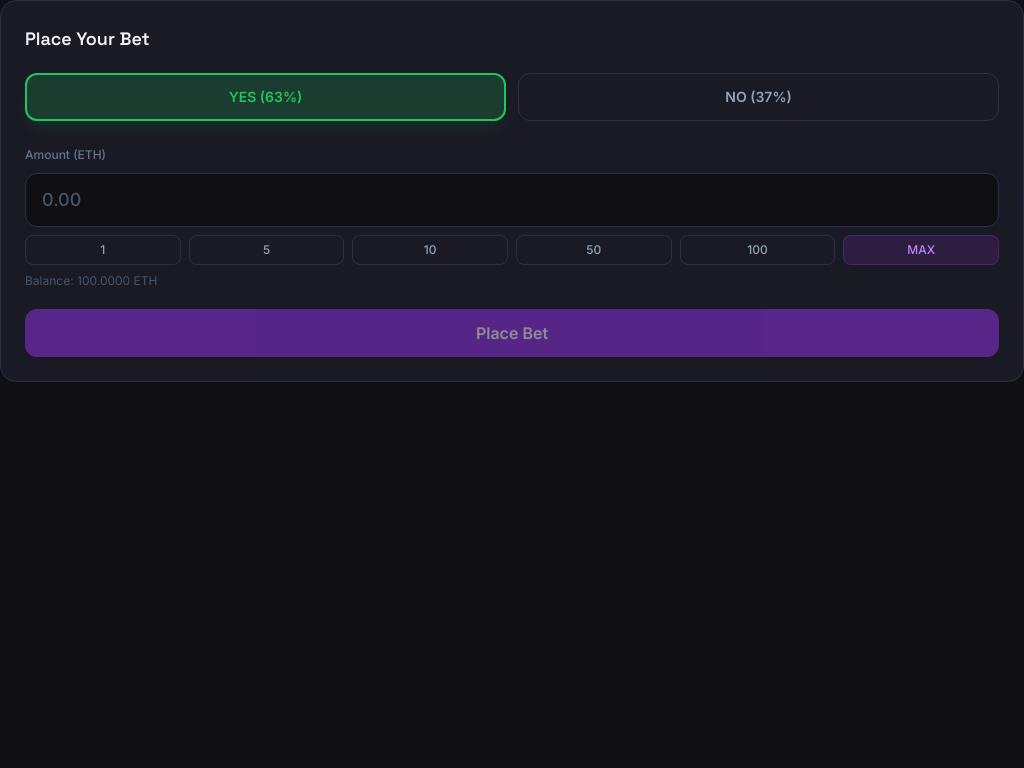
BettingPanel › shows minimum bet validation
In the number field with placeholder "0.00": (512, 200) [25,173,999,227], type "0.0005"
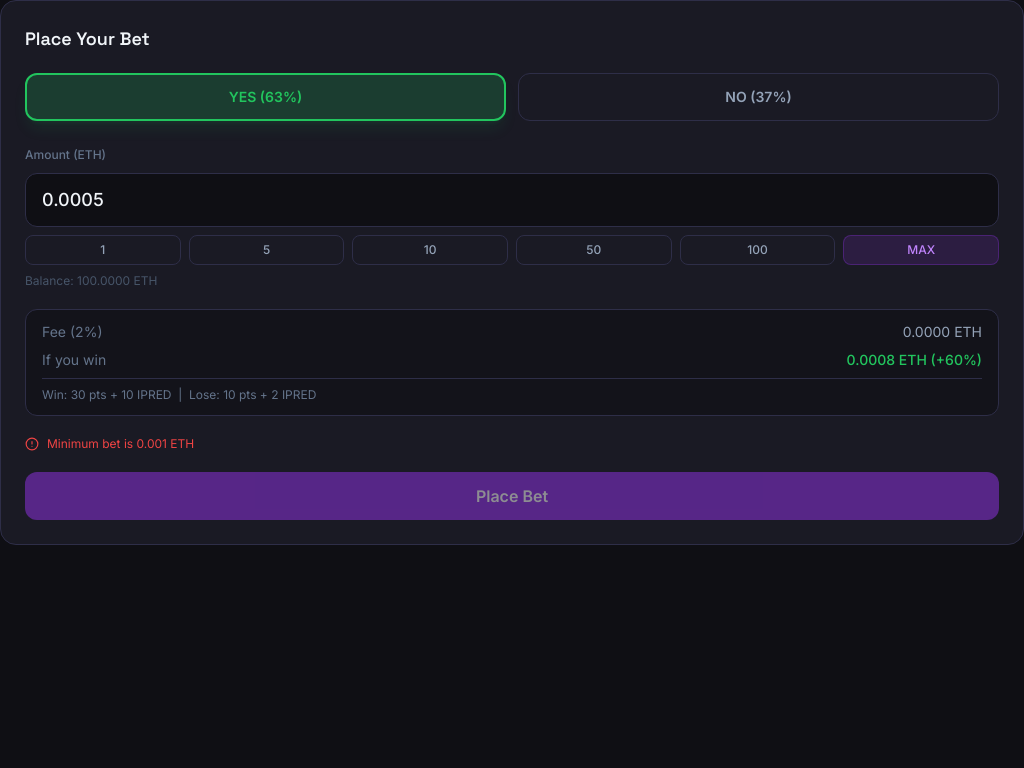
Check: the text "Minimum bet is 0.001 ETH" is shown, box [25,436,194,451]
